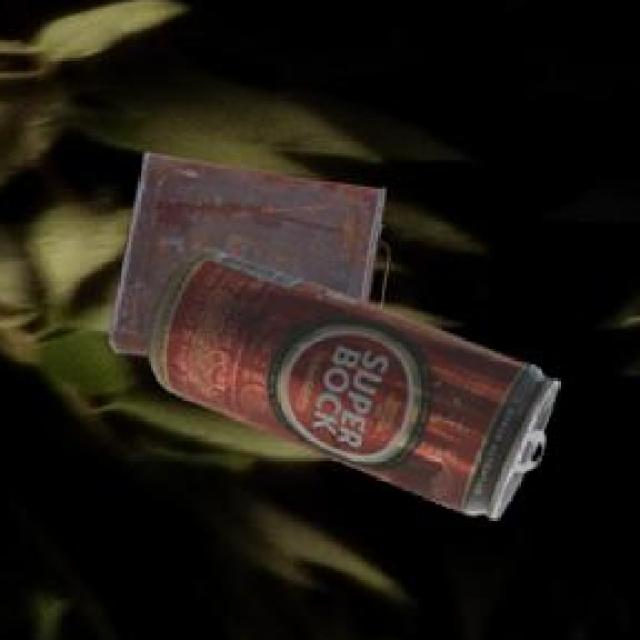logam: (146, 246, 553, 514), (106, 150, 386, 352)
